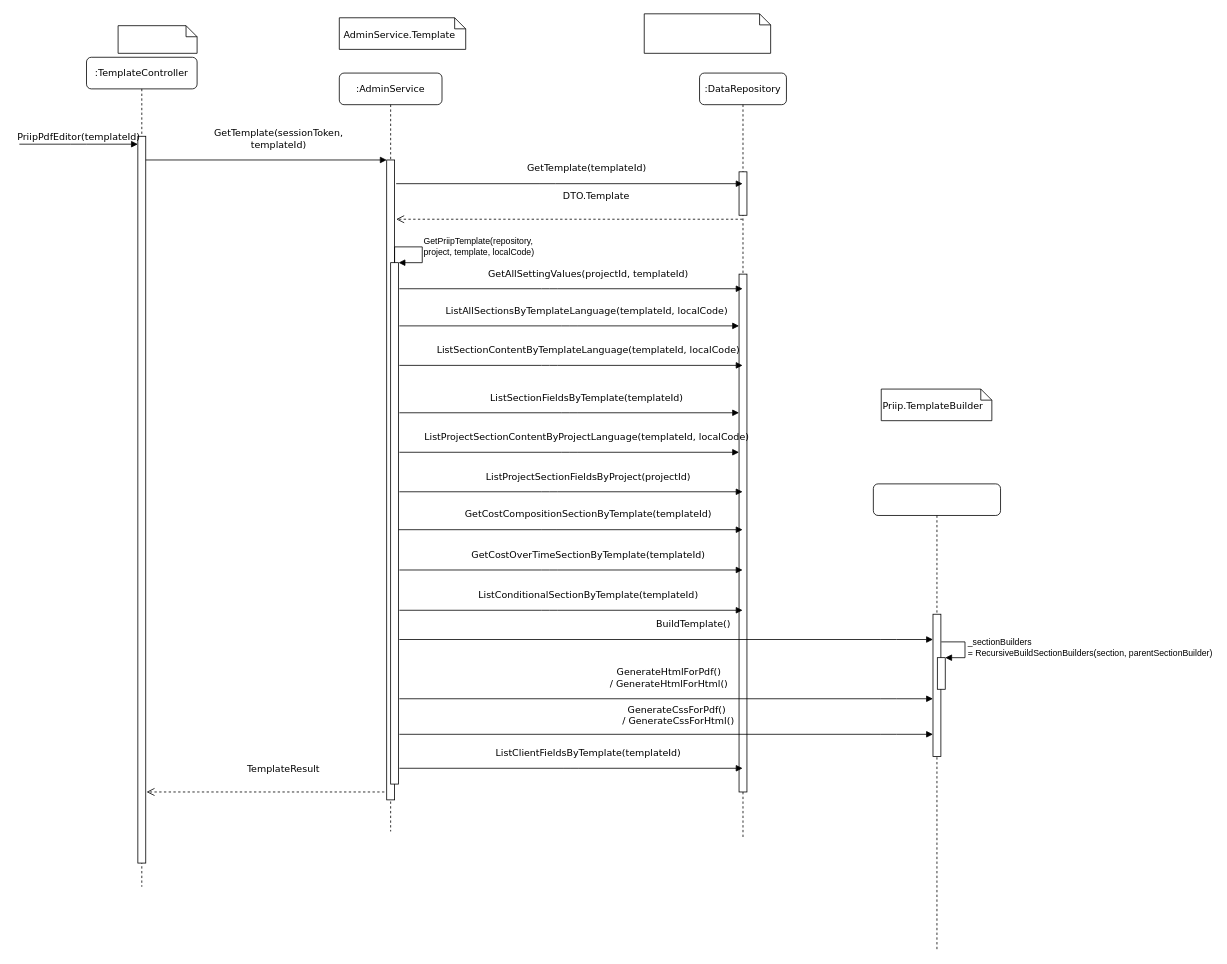
The diagram is 1227 pixels wide and 964 high, and some of its shapes have lost their labels. The shapes that lost their labels are listed below. From the top down, each one's box as (x1, y1, x2, y2) in pixels, then its label:
(117, 25, 197, 53): Note
(643, 13, 771, 53): DataRepository.Template
(873, 483, 1001, 950): :TemplateBuilder
